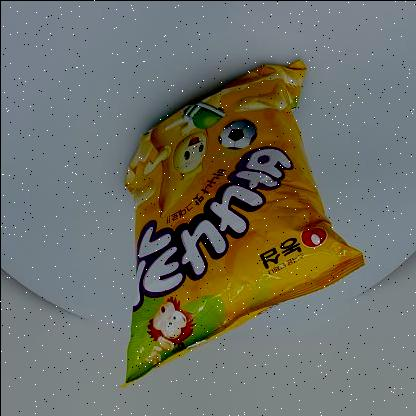Others: (112, 53, 370, 394)
